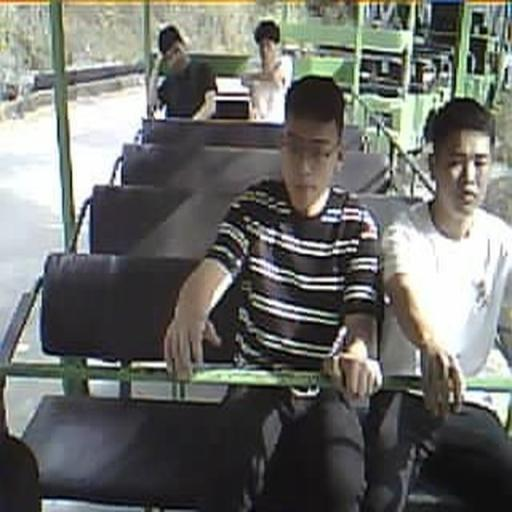persona: (163, 73, 385, 510), (378, 96, 512, 510), (148, 23, 218, 120), (240, 19, 294, 123)
